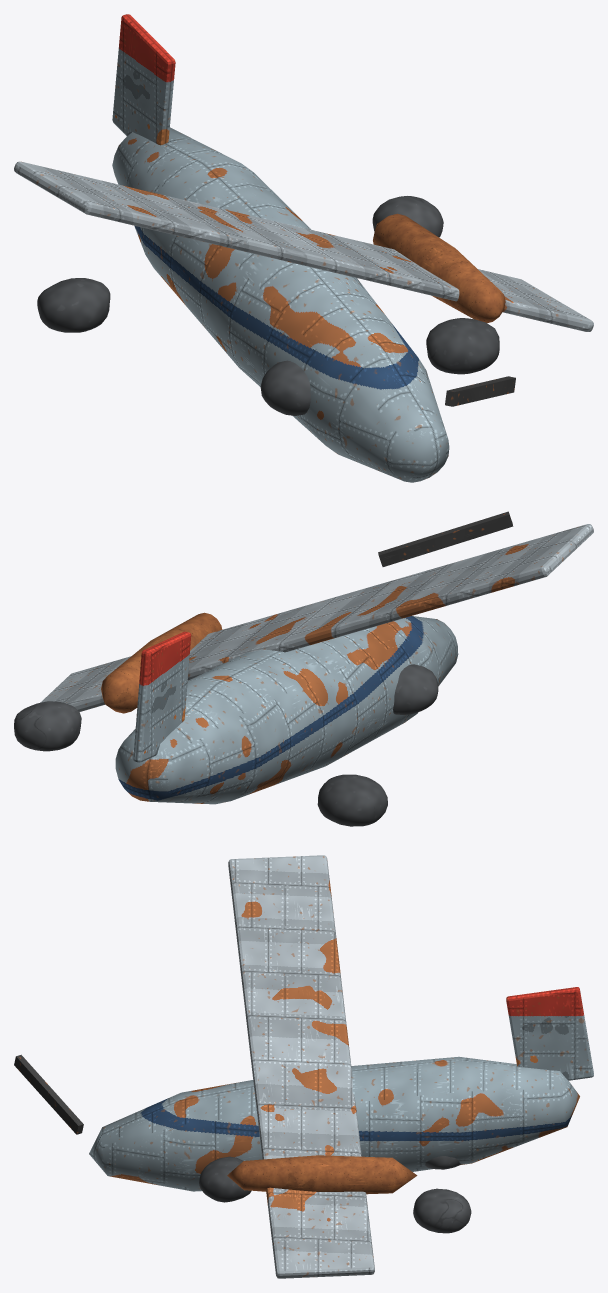
File: seaplane.glb
3 views of the same model, one above another, from view 1: azimuth 30°, elevation 25°; view 2: azimuth 150°, elevation 25°; view 3: azimuth 270°, elevation 25° (orthographic). The views are drawn at different scales.
Parts seen in each view (by area): view 1: Seaplane; view 2: Seaplane; view 3: Seaplane.
Part boxes in pixels (left/top/right/bottom): Seaplane: left=14, top=14, right=593, bottom=482; Seaplane: left=14, top=511, right=593, bottom=826; Seaplane: left=14, top=855, right=593, bottom=1278.
Bounding box in the file's own units: 5.96 × 3.07 × 7.
Materials: 1 (1 with a texture image).
